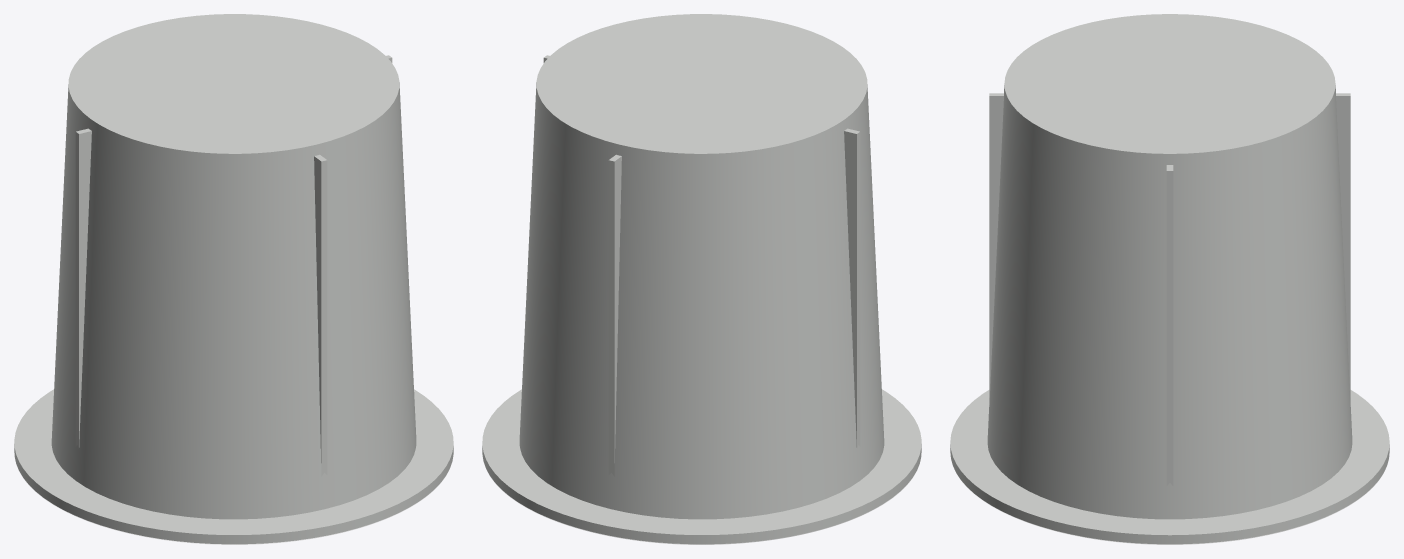
Rendered from spx2.glb.
3 renders of one model, left to right at view 1: azimuth 30°, elevation 25°; view 2: azimuth 150°, elevation 25°; view 3: azimuth 270°, elevation 25°, orthographic.
Parts seen in each view (by area): view 1: SPX2 recessed illustrative enclosure, SPX2 outer flange / diameter 260mm, SPX2 enclosure rib.002, SPX2 enclosure rib.003, SPX2 original circular grille and ClassIn badge; view 2: SPX2 recessed illustrative enclosure, SPX2 outer flange / diameter 260mm, SPX2 enclosure rib.002, SPX2 enclosure rib.001, SPX2 original circular grille and ClassIn badge; view 3: SPX2 recessed illustrative enclosure, SPX2 outer flange / diameter 260mm, SPX2 enclosure rib, SPX2 enclosure rib.001, SPX2 enclosure rib.003, SPX2 original circular grille and ClassIn badge.
Boxes of the visible parts, bbox=[...] form: SPX2 recessed illustrative enclosure: bbox=[51, 14, 416, 519]; SPX2 outer flange / diameter 260mm: bbox=[14, 389, 453, 544]; SPX2 enclosure rib.002: bbox=[75, 128, 91, 448]; SPX2 enclosure rib.003: bbox=[314, 154, 327, 476]; SPX2 original circular grille and ClassIn badge: bbox=[14, 453, 453, 544]; SPX2 recessed illustrative enclosure: bbox=[519, 14, 884, 519]; SPX2 outer flange / diameter 260mm: bbox=[482, 389, 921, 544]; SPX2 enclosure rib.002: bbox=[844, 128, 860, 448]; SPX2 enclosure rib.001: bbox=[608, 154, 621, 476]; SPX2 original circular grille and ClassIn badge: bbox=[482, 453, 921, 544]; SPX2 recessed illustrative enclosure: bbox=[987, 14, 1352, 519]; SPX2 outer flange / diameter 260mm: bbox=[950, 390, 1389, 544]; SPX2 enclosure rib: bbox=[1166, 165, 1173, 485]; SPX2 enclosure rib.001: bbox=[1336, 93, 1350, 404]; SPX2 enclosure rib.003: bbox=[989, 93, 1003, 404]; SPX2 original circular grille and ClassIn badge: bbox=[950, 457, 1389, 544].
Bounding box in the file's own units: 0.26 × 0.2404 × 0.26.
Materials: 2 (1 with a texture image).
